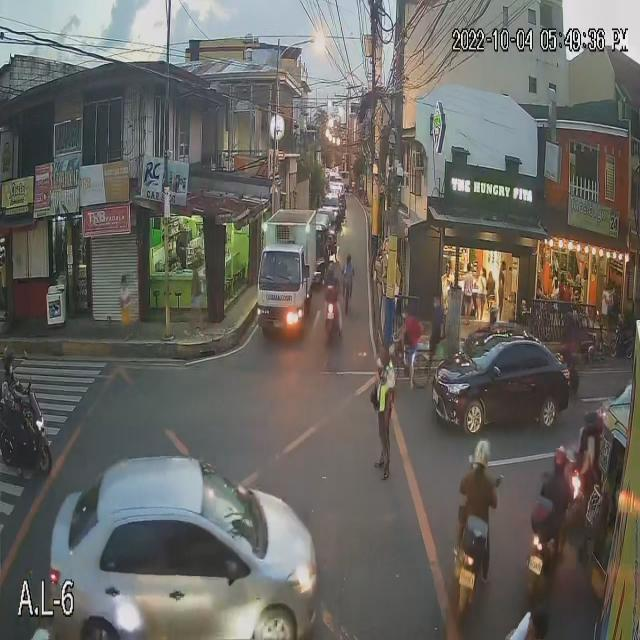helmet: (548, 442, 573, 473), (472, 438, 489, 467), (2, 347, 16, 375), (326, 257, 335, 277)
motorcycle: (445, 511, 495, 613), (522, 515, 578, 606), (0, 391, 55, 483), (318, 293, 346, 345)
rider: (448, 432, 496, 537), (535, 438, 583, 532), (0, 333, 20, 443), (322, 261, 344, 311)
